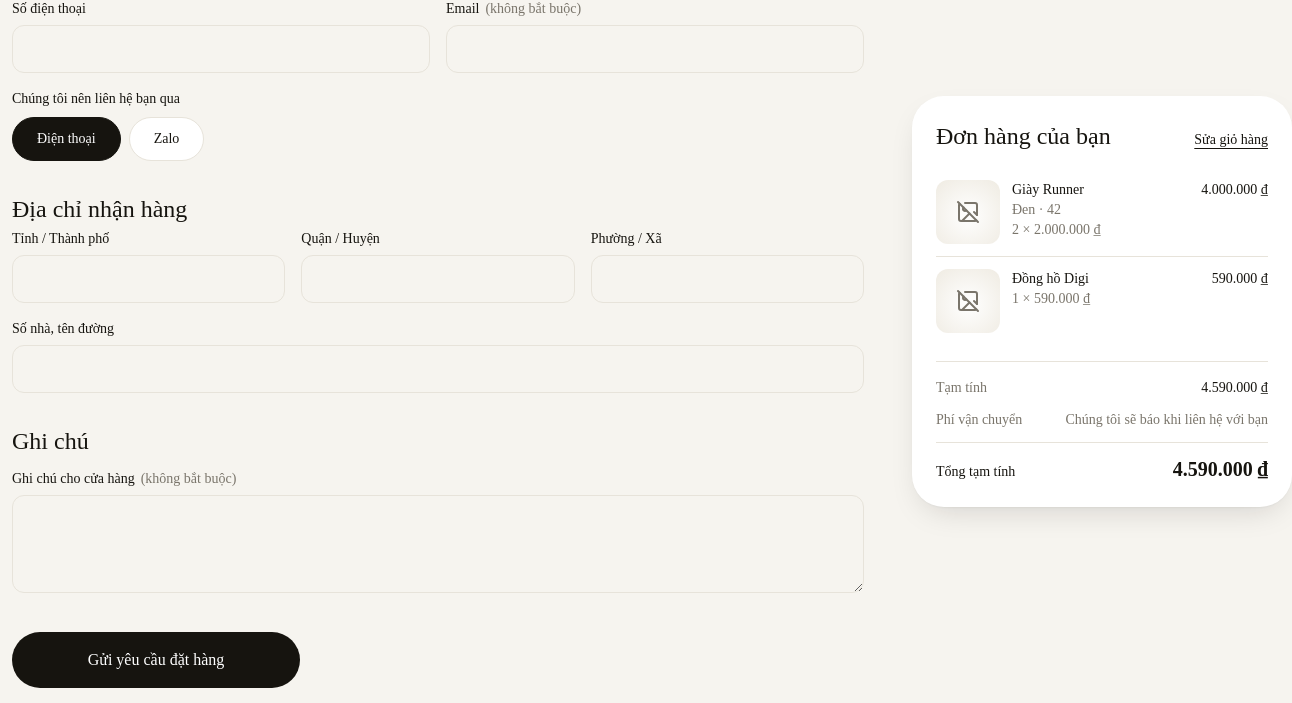
Test: when the server says no › tells a client that sent too many requests how long to wait
(page scrolled)
Expected: the text "Giày Runner" is shown, [1012, 182, 1084, 197]
Click the button "Gửi yêu cầu đặt hàng": (156, 660) [12, 632, 300, 688]
(page scrolled)
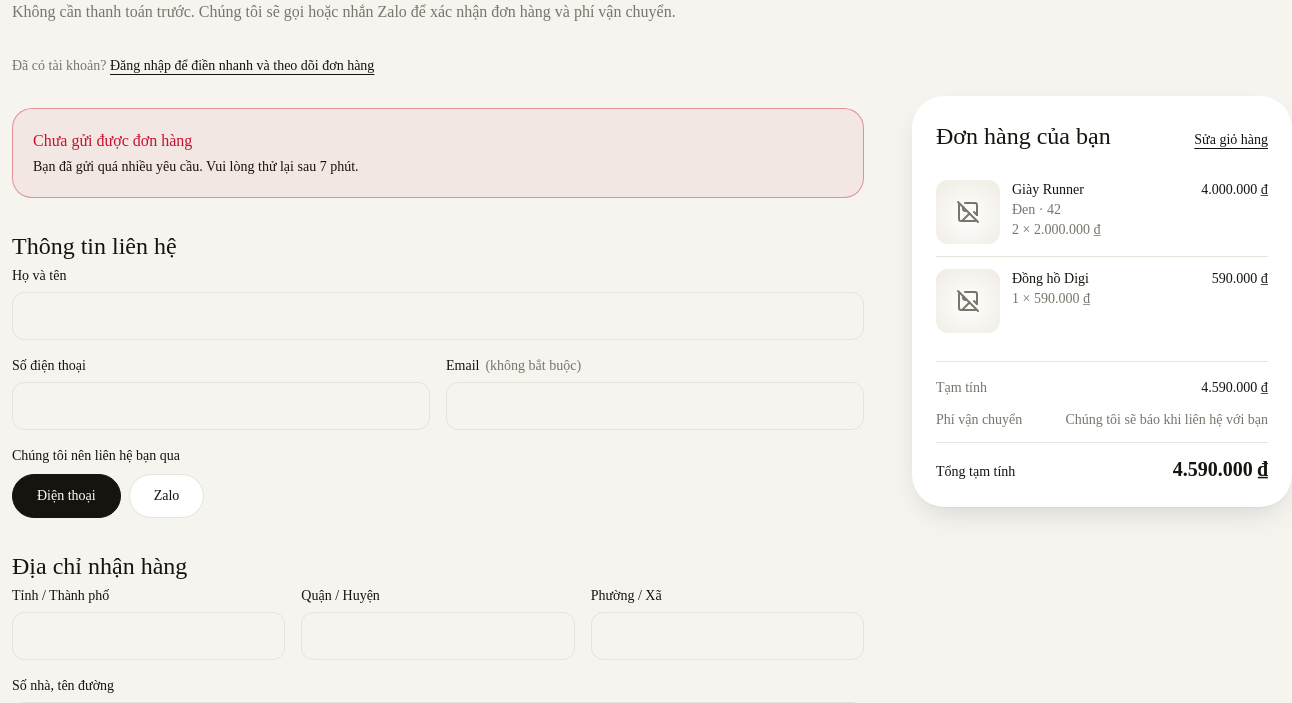
Expected: the message shows "Vui lòng thử lại sau 7 phút", [33, 159, 358, 174]
